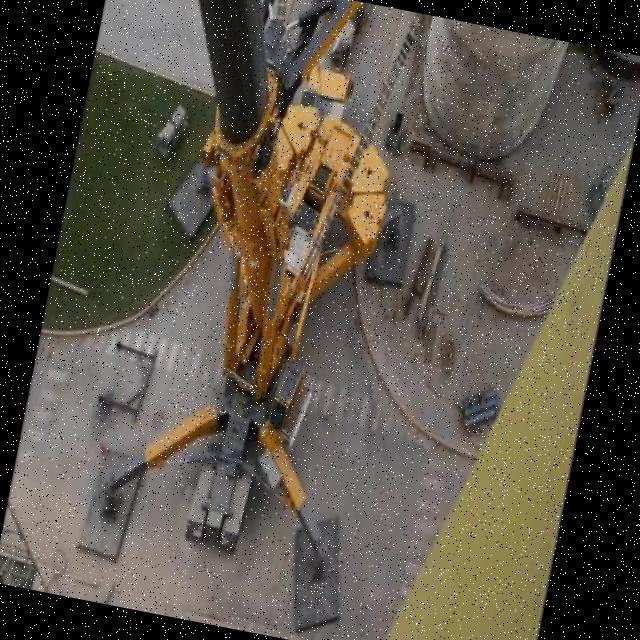Mobile Crane: (73, 0, 440, 585)
